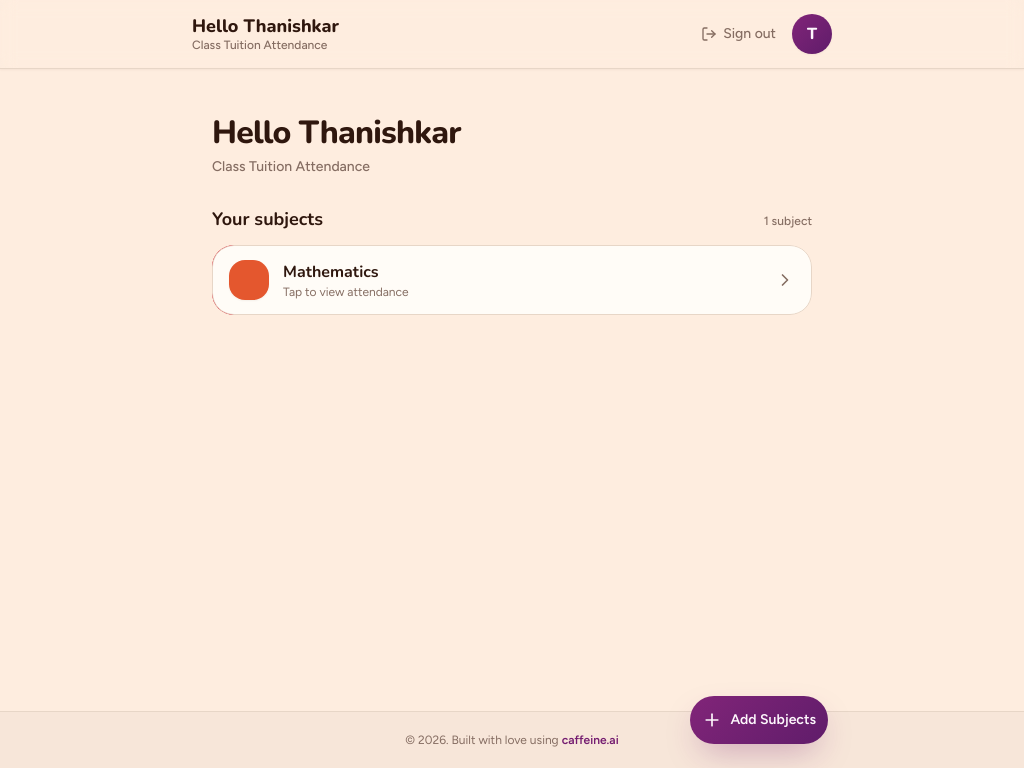
Test case: home page subjects › reveals a red delete action on swipe and removes the subject
The image size is (1024, 768).
Press ArrowRight in the element showing "Mathematics Tap to view attendance", box [212, 245, 812, 315]
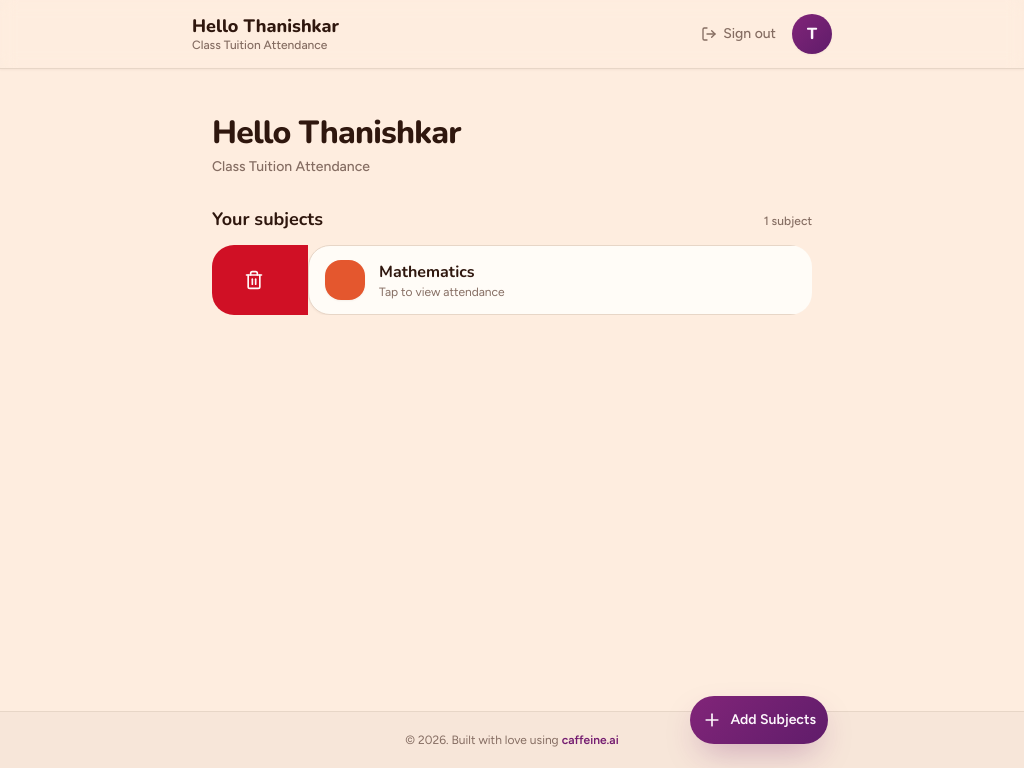
Click the button named "delete mathematics" at (254, 280), box [232, 258, 276, 302]
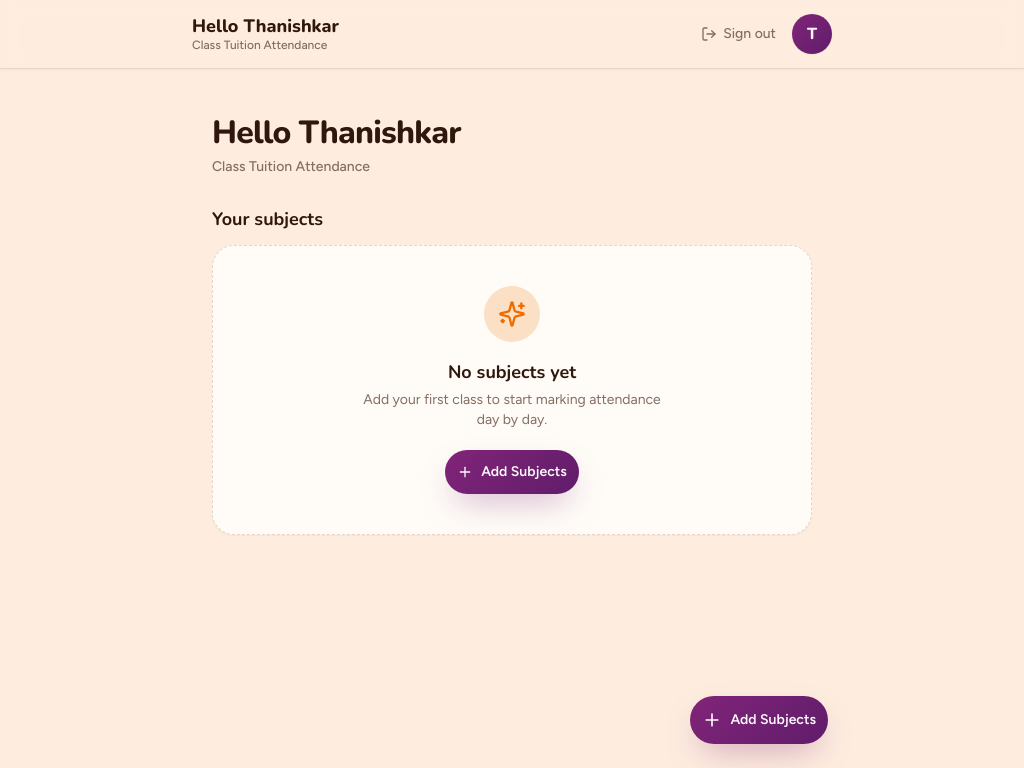
Expected: the text "No subjects yet" is shown, [448, 360, 576, 384]
